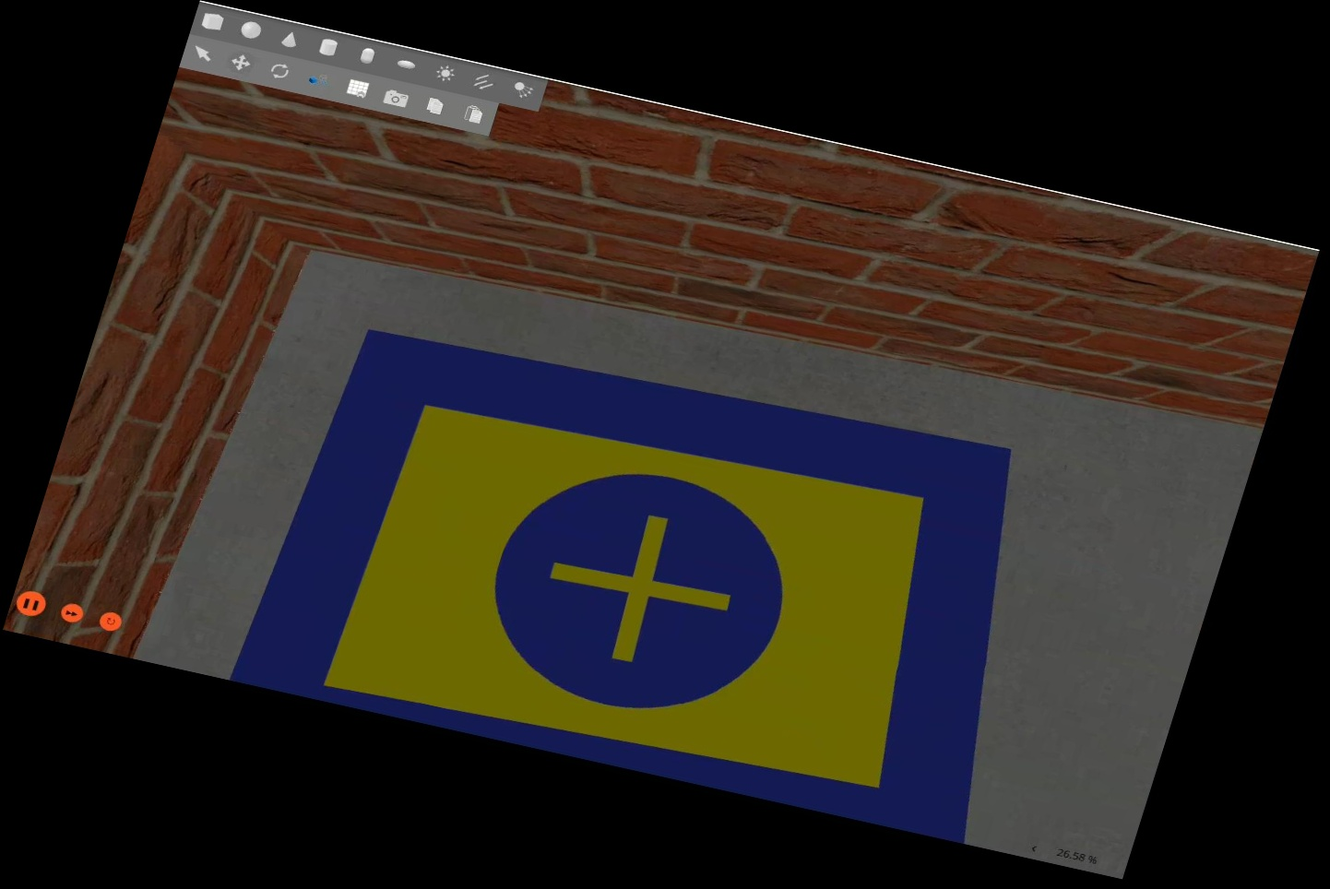large_base: (231, 302, 1082, 844)
